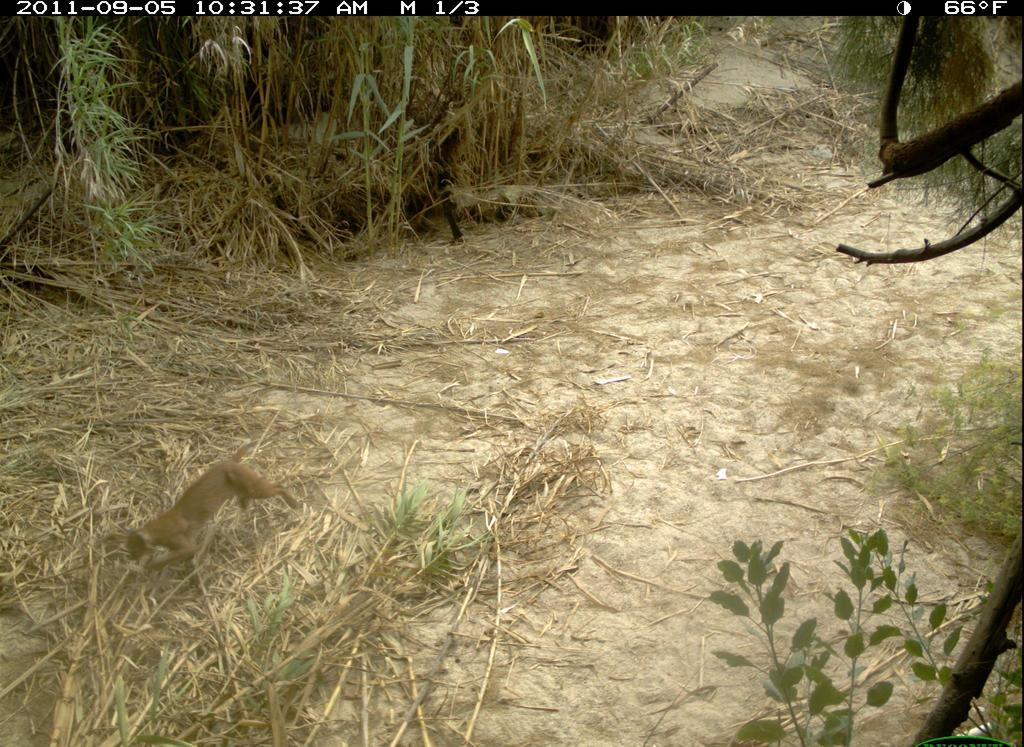bobcat: (114, 436, 318, 593)
